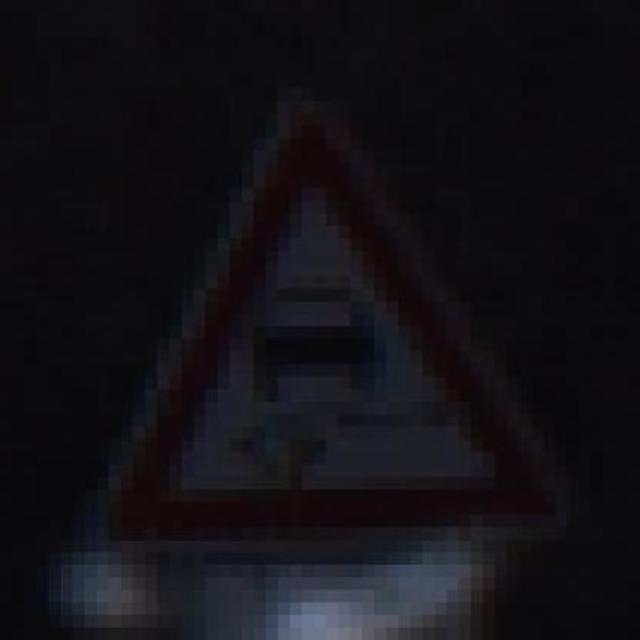Slippery Road Ahead: (72, 88, 580, 564)
